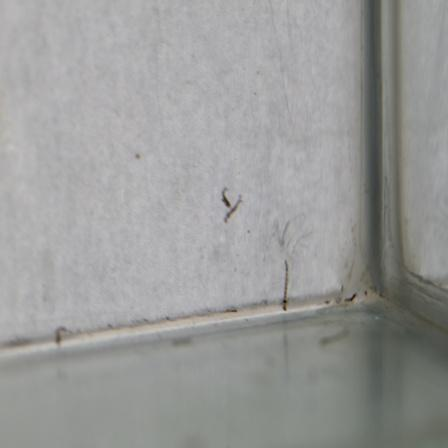Jentik-Nyamuk: (276, 259, 299, 315)
